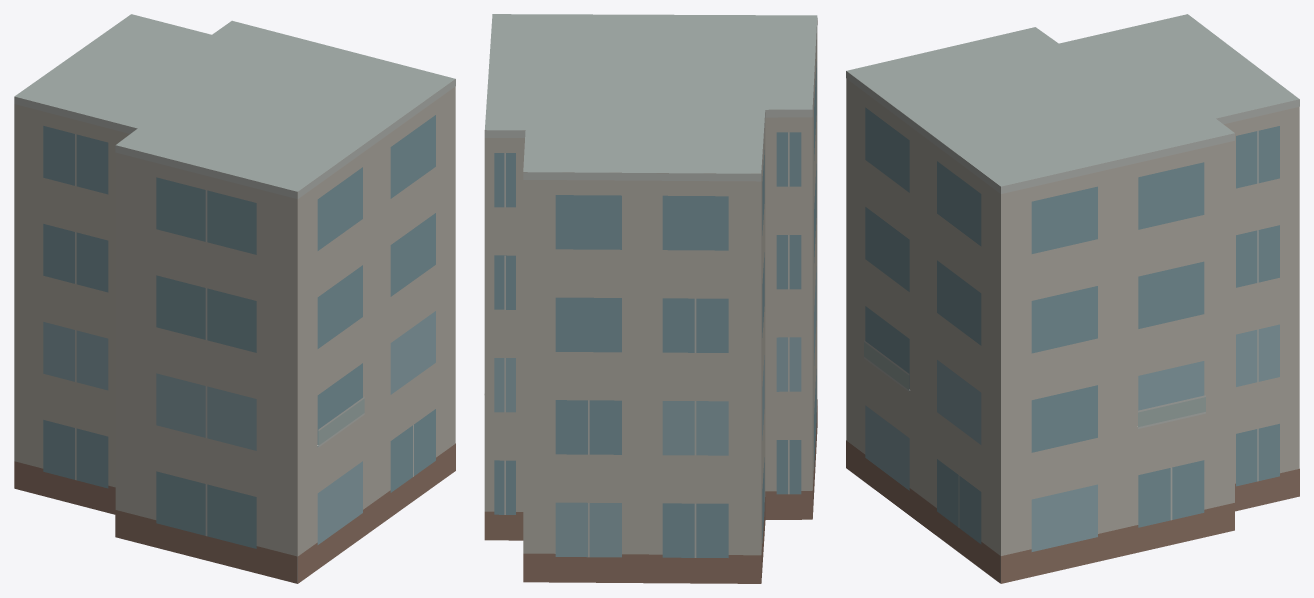
Rendered from survey-upis-32630982.glb.
3 views of the same model, side by side, from view 1: azimuth 30°, elevation 25°; view 2: azimuth 150°, elevation 25°; view 3: azimuth 270°, elevation 25° (orthographic). The views are drawn at different scales.
Visible parts, largest first — view 1: survey-upis-32630982.tmp; view 2: survey-upis-32630982.tmp; view 3: survey-upis-32630982.tmp.
Part boxes in pixels (x1,y1,x2,y2): survey-upis-32630982.tmp: (14,14,455,583); survey-upis-32630982.tmp: (484,14,817,583); survey-upis-32630982.tmp: (846,14,1299,583).
Size of the model in its own units: 12.03 by 12.9 by 13.36.
